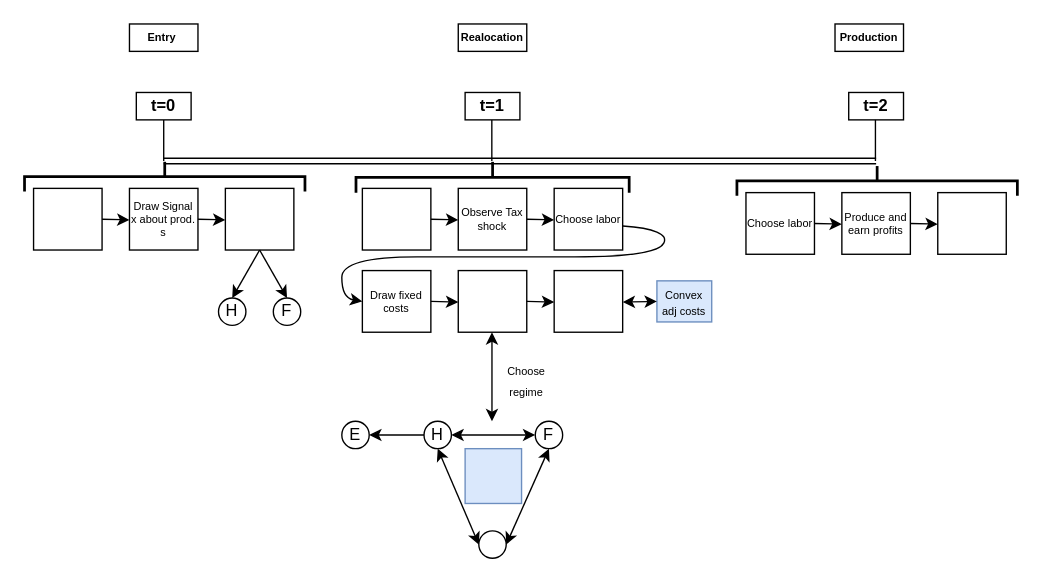
This 1043x582 diagram has some shape labels left out. The shapes that lost their labels are listed below. From the top down, each one's box as (x1, y1, x2, y2) in pixels, then its label:
(32, 187, 102, 250): Mass M potential entrants
(224, 187, 294, 250): Choose to enter H or F cost C_E
(361, 187, 431, 250): Draw S
(936, 191, 1006, 254): Pay fixed cost per market
(457, 269, 527, 332): Choose Exit, Stay, relocate
(553, 269, 623, 332): Choose realocation and investment
(464, 447, 522, 503): Convex moving costs
(477, 530, 506, 558): HF
